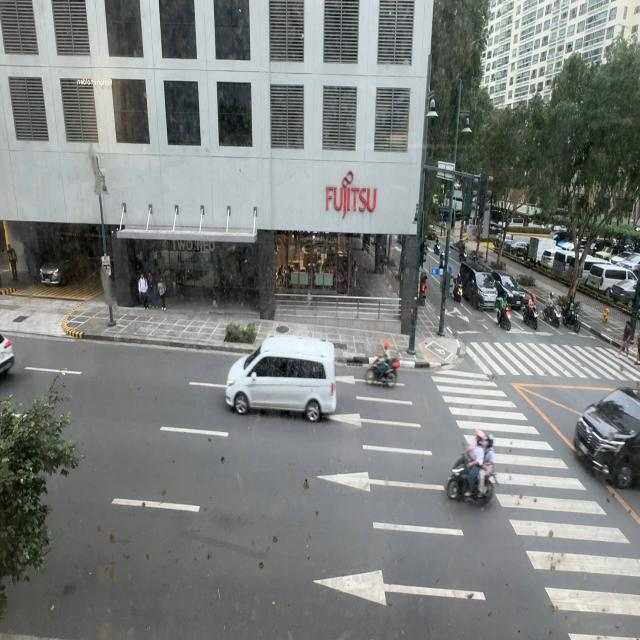crossing: (618, 321, 632, 358)
pedestrain: (139, 272, 148, 309)
